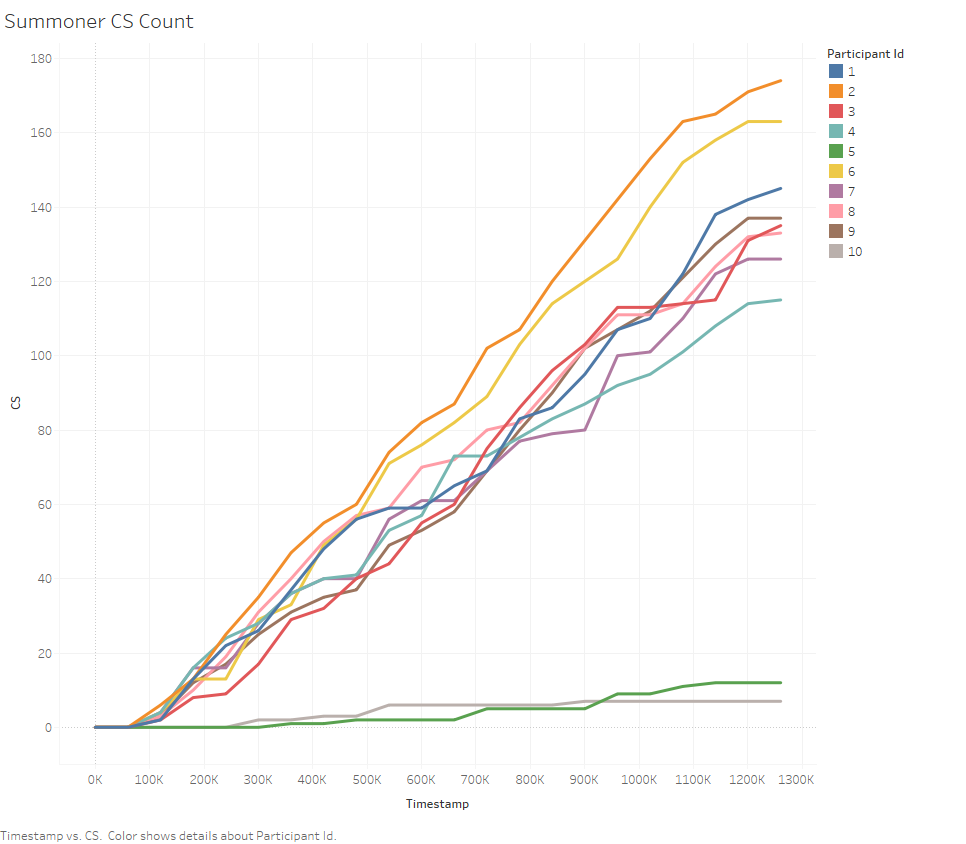

This screenshot's page, from the dashboard's own definition file:
{"tool":"tableau","page":{"name":"Dashboard 1","canvas":[1000,800],"ordinal":0},"visuals":[{"type":"worksheet","title":"Summoner CS Count","mark":"Line","rows":["Calculation_945474464548577281"],"cols":["timestamp"],"box":[8,8,824,784]},{"type":"legend","title":"Summoner CS Count","param":"[federated.10373q2145vnmg1cax36k12suecu].[none:participantId:ok]","box":[832,8,160,784]}]}

Visuals, with their boxes on the page's 1000x800 design canvas (x1, y1, x2, y2). These are canvas units, not pixel positions in the 966x844 screenshot, which may show the page scaled, cropped or inside an application window:
"Summoner CS Count" worksheet (Line marks): rect(8, 8, 832, 792)
"Summoner CS Count" legend: rect(832, 8, 992, 792)
